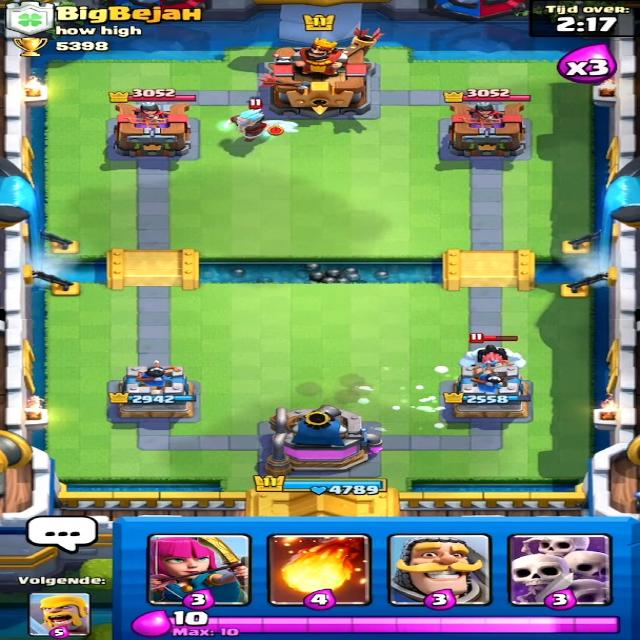Enemy_Ice_Golem_Troop: (456, 344, 524, 370)
Fireball_Card: (268, 534, 378, 610)
